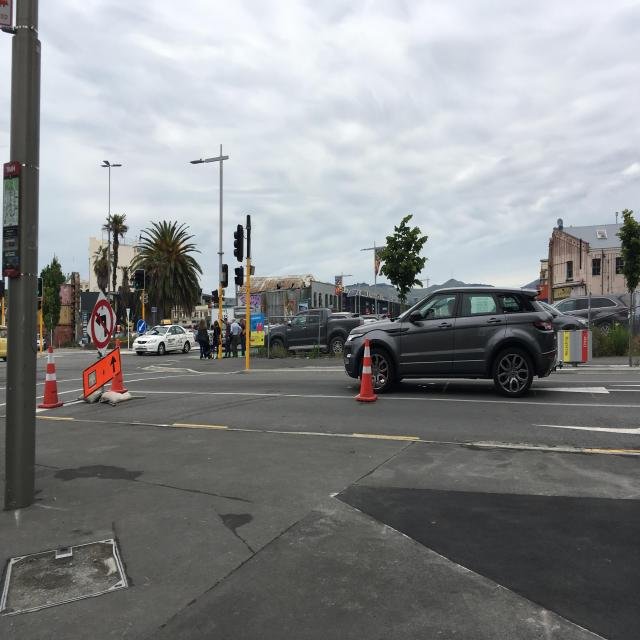Good: (0, 528, 134, 623)
